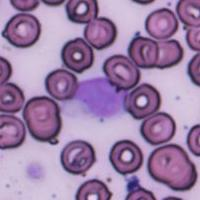M: (73, 72, 130, 120)
